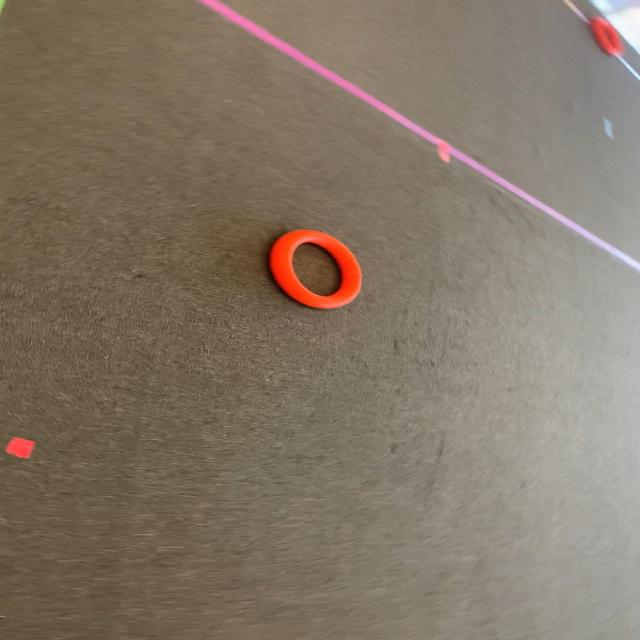notes: (269, 229, 362, 310), (586, 18, 622, 56)
